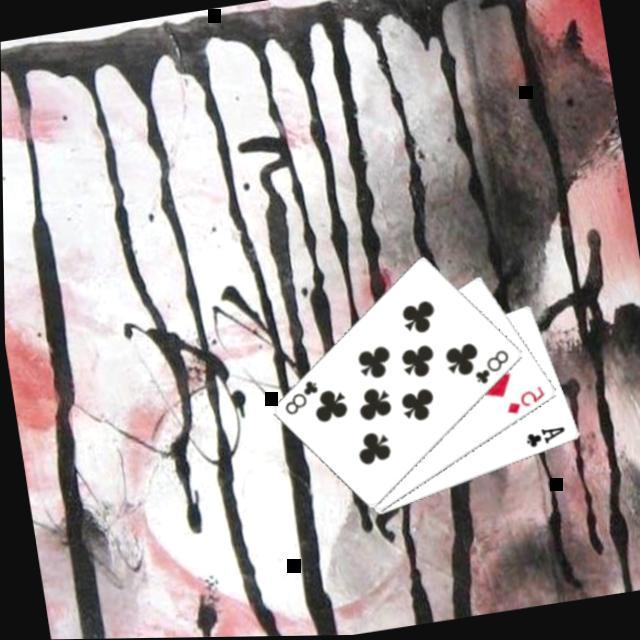5D: (501, 382, 551, 420)
8C: (469, 345, 517, 389), (278, 375, 326, 419)
AC: (522, 422, 571, 453)
